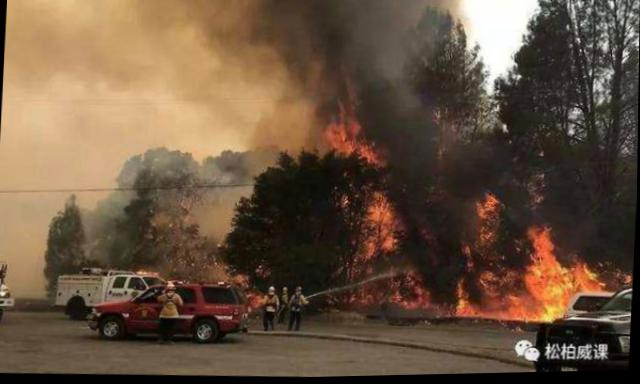fire: (320, 111, 437, 316), (459, 189, 606, 329)
